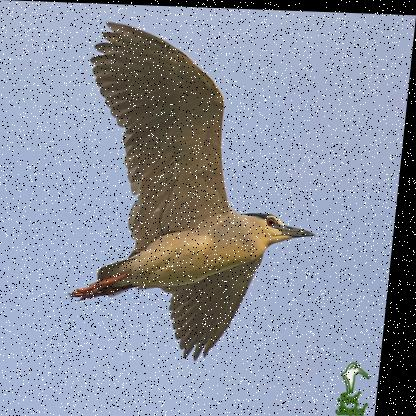Burung: (66, 19, 336, 363)
